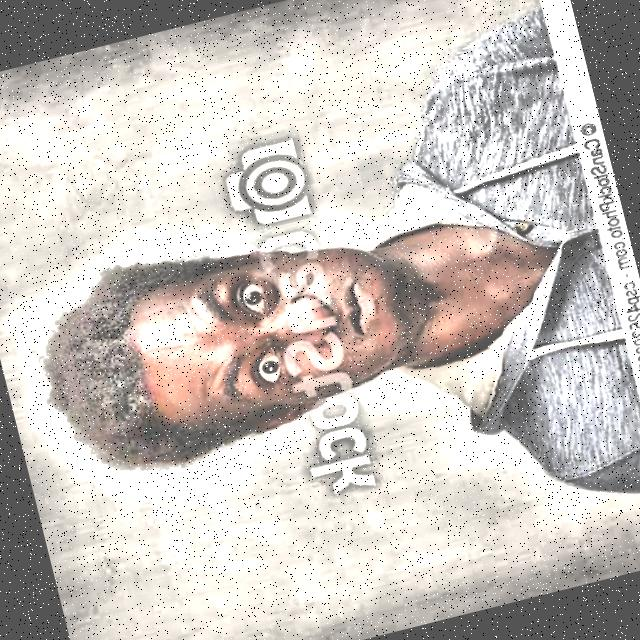angry: (9, 190, 440, 499)
